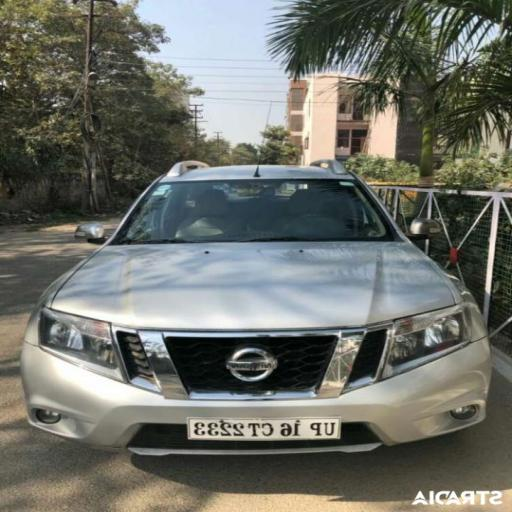License: (184, 412, 338, 451)
